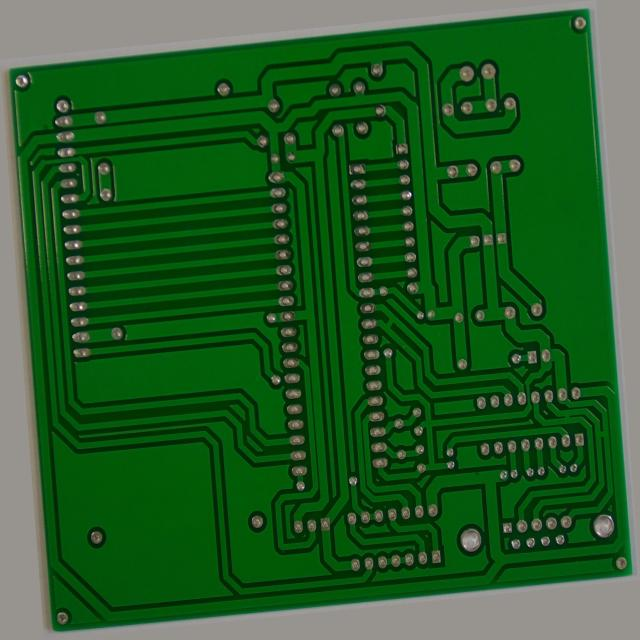short: (384, 319, 404, 344), (566, 442, 585, 463), (603, 465, 620, 485)
